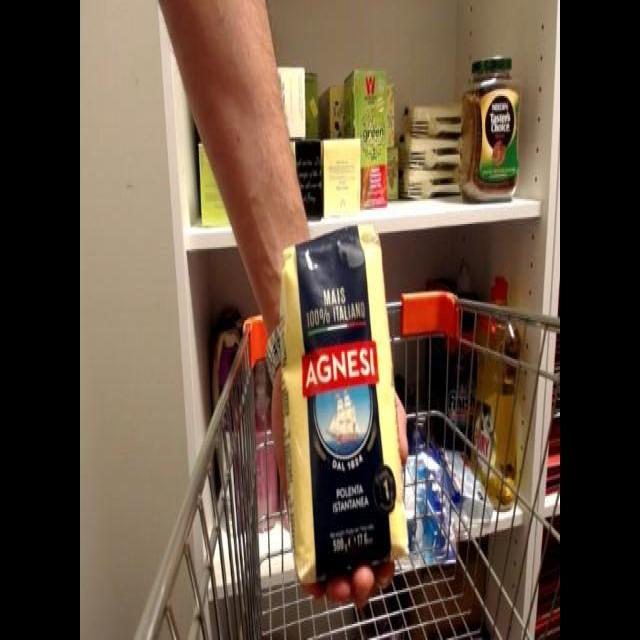Agnesi Polenta: (276, 218, 399, 589)
